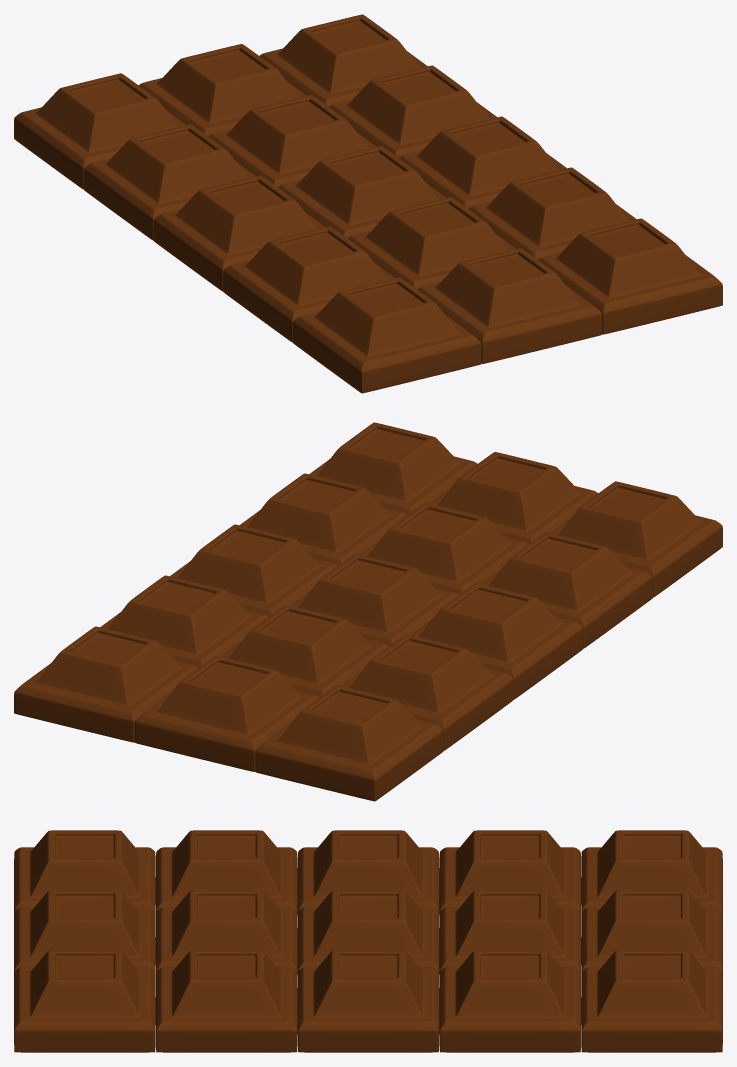
The model's file is chocolate.fbx.
3 renders of one model, top to bottom at view 1: azimuth 30°, elevation 25°; view 2: azimuth 150°, elevation 25°; view 3: azimuth 270°, elevation 25°, orthographic.
Parts seen in each view (by area): view 1: Chocolate; view 2: Chocolate; view 3: Chocolate.
Part boxes in pixels (x1=…): Chocolate: x1=14, y1=14, x2=722, y2=393; Chocolate: x1=14, y1=422, x2=722, y2=801; Chocolate: x1=14, y1=830, x2=722, y2=1052.
Bounding box in the file's own units: 132 × 19.87 × 220.
